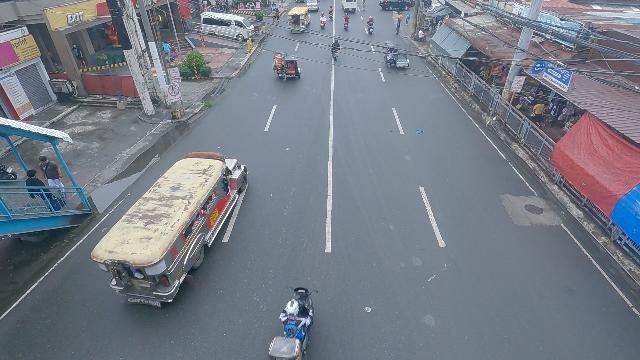car: (382, 0, 414, 11), (305, 0, 319, 12)
jeepney: (87, 152, 249, 308), (287, 7, 311, 33)
motorcycle: (263, 285, 321, 360), (330, 40, 339, 60), (366, 20, 374, 34), (320, 13, 326, 30), (343, 17, 350, 30), (328, 7, 334, 20)
van: (197, 11, 253, 43), (342, 0, 357, 12)
